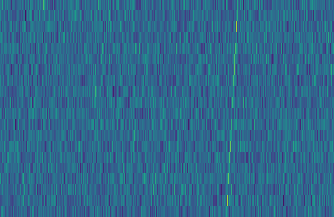signal: (223, 0, 243, 217)
